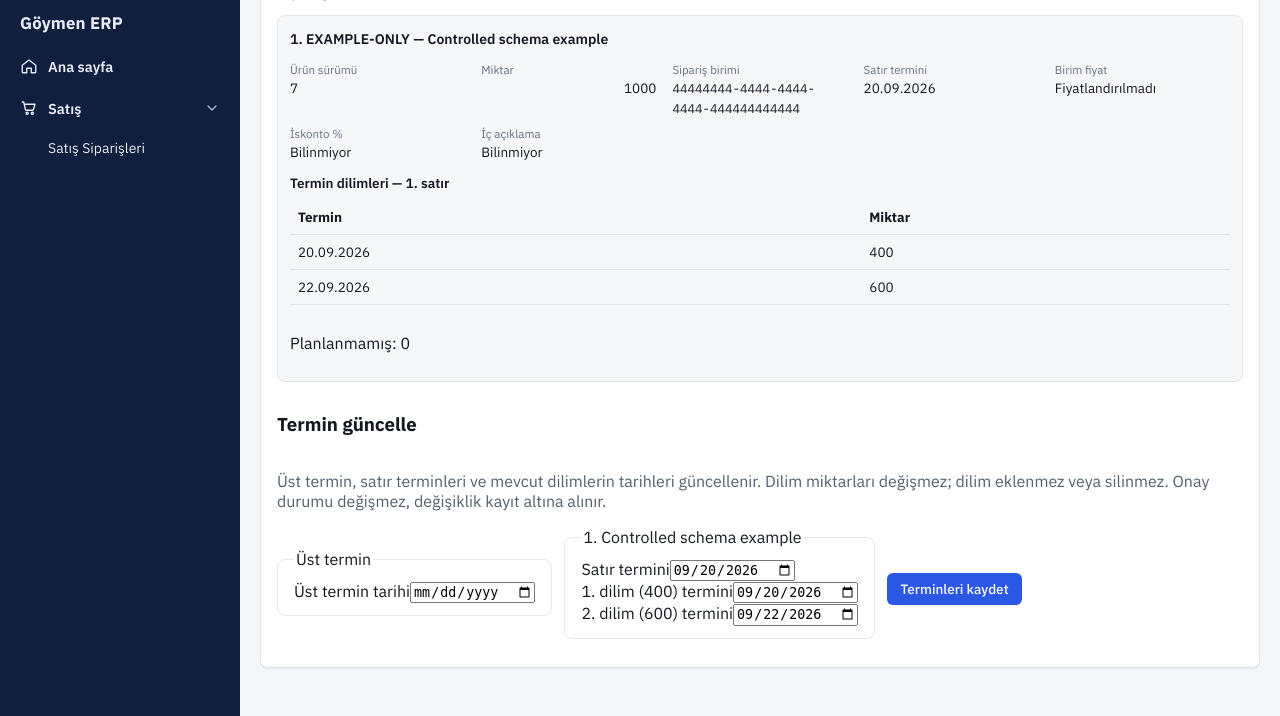
Scenario: S-04 delivery-schedule update (DEC-SAL-003) › a form that moves no date is refused locally and sends nothing
This screenshot has width=1280, height=716.
(page scrolled)
Expected: the element with test id "sales-delivery-schedule-form" is shown, [277, 394, 1243, 651]
Click the button "Terminleri kaydet".
click(954, 589)  # box [887, 573, 1022, 605]
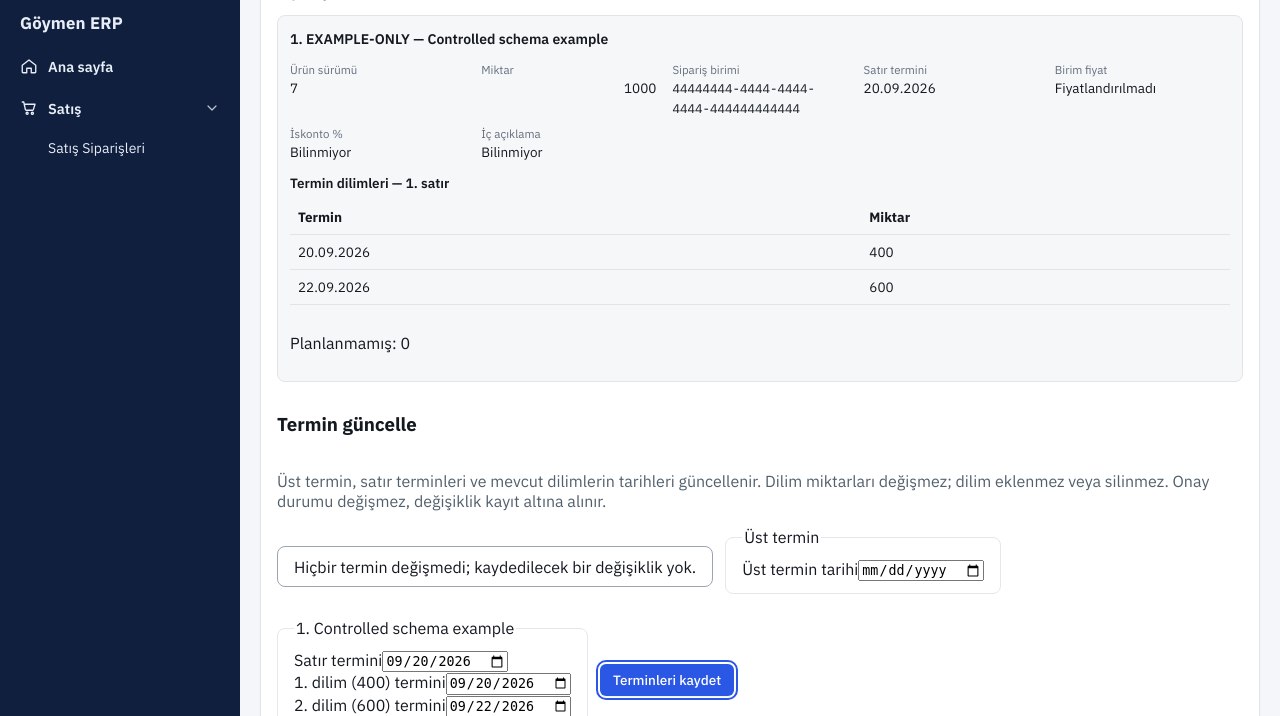
Result: the message reads "Hiçbir termin değişmedi; kaydedilecek bir değişiklik yok." at [294, 557, 696, 577]
